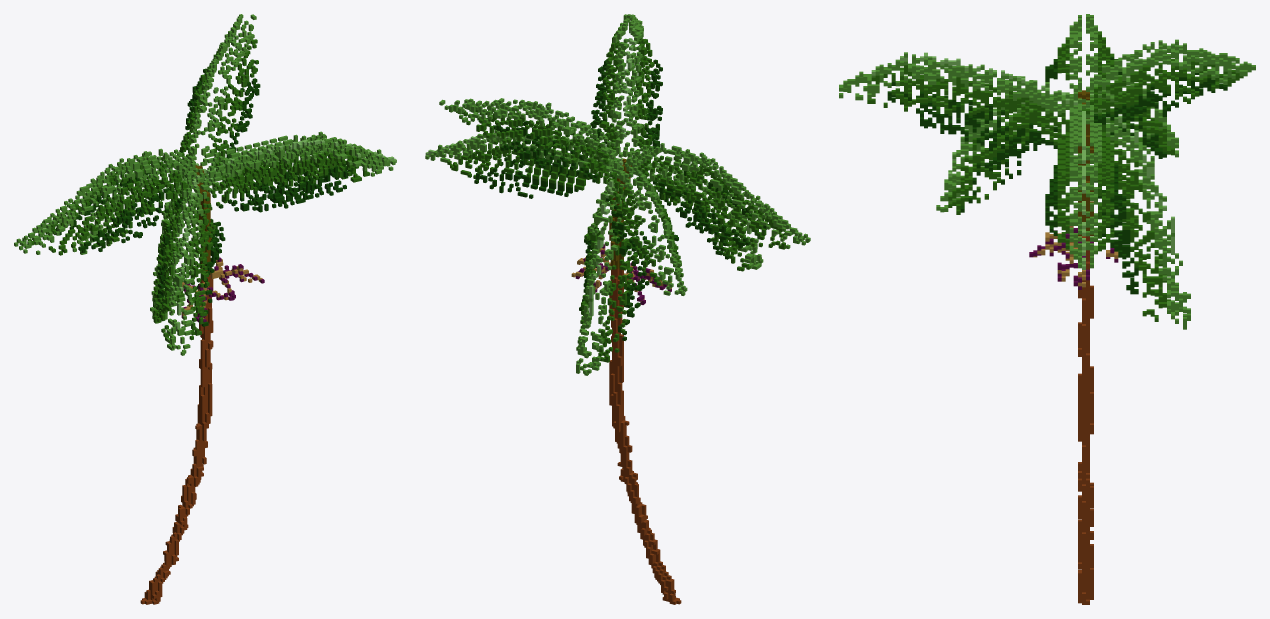
Rendered from Acaizeiro2.fbx.
The picture shows the model from 3 angles, left to right: view 1: azimuth 30°, elevation 25°; view 2: azimuth 150°, elevation 25°; view 3: azimuth 270°, elevation 25°; orthographic projection. The views are drawn at different scales.
Parts seen in each view (by area): view 1: Vegetacao.004; view 2: Vegetacao.004; view 3: Vegetacao.004.
Boxes of the visible parts, x1,y1,x2,y2 form: Vegetacao.004: (14, 14, 396, 604); Vegetacao.004: (425, 14, 810, 604); Vegetacao.004: (839, 14, 1255, 604).
Size of the model in its own units: 13600 by 17200 by 10300.
